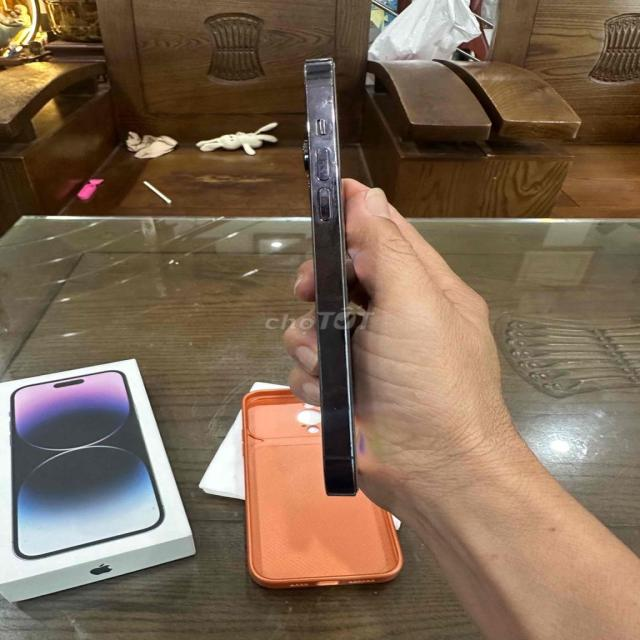gen_14: (294, 50, 384, 507)
scratch: (314, 124, 342, 223), (315, 85, 355, 116), (327, 401, 348, 418)
